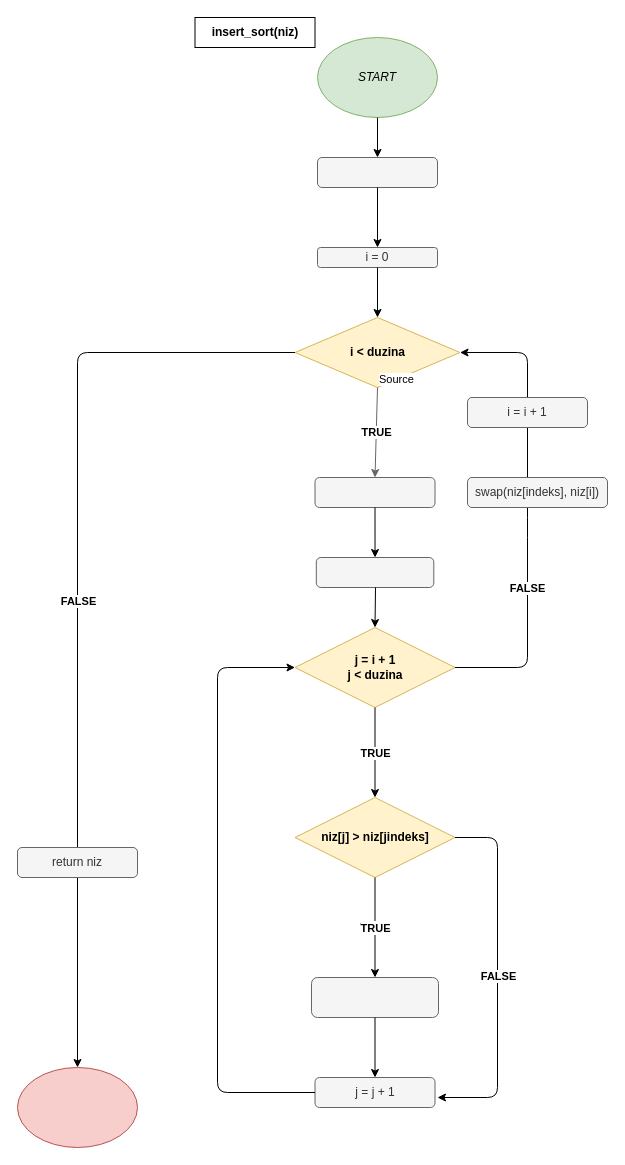
Image size: 625x1165. Some labels were removed from this diagram. Each missing label, with the box of its shape:
duzina = niz.length: (316, 156, 438, 188)
END: (16, 1066, 138, 1148)
indeks = i: (314, 476, 435, 508)
indeks = j: (310, 976, 438, 1018)
j = 0: (315, 556, 434, 588)
